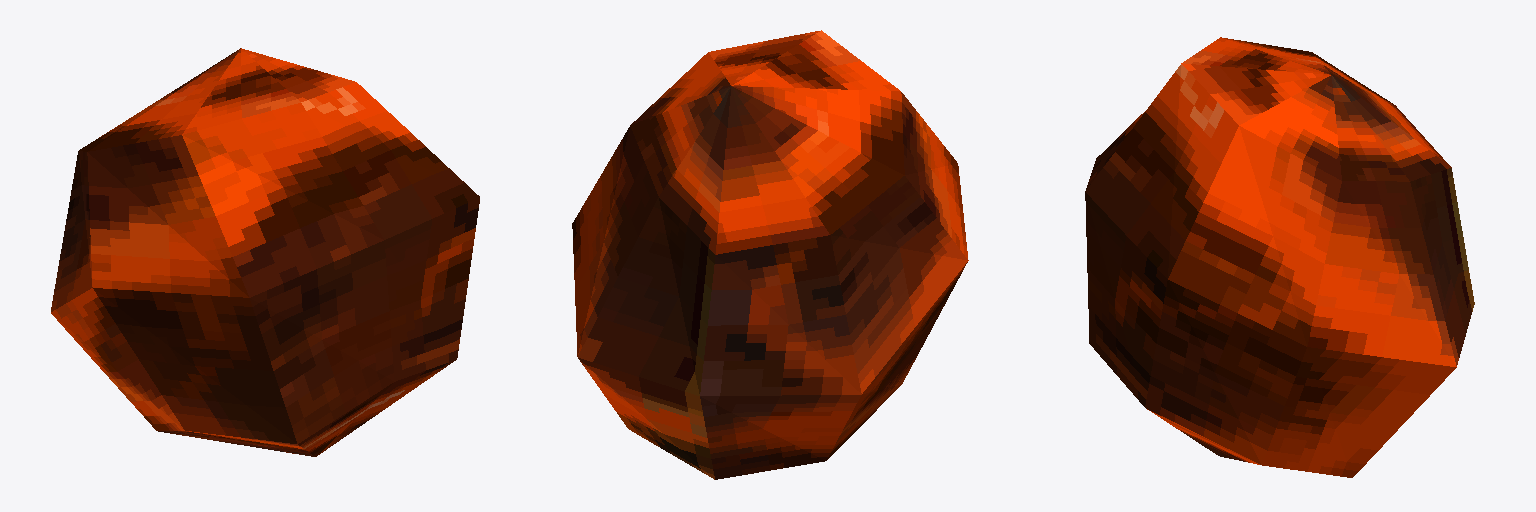
3 views of the same model, side by side, from view 1: azimuth 30°, elevation 25°; view 2: azimuth 150°, elevation 25°; view 3: azimuth 270°, elevation 25° (orthographic).
Parts seen in each view (by area): view 1: spells/fireball_missile_high.m2_Geoset_000; view 2: spells/fireball_missile_high.m2_Geoset_000; view 3: spells/fireball_missile_high.m2_Geoset_000.
Part boxes in pixels (bbox=[...]): spells/fireball_missile_high.m2_Geoset_000: bbox=[51, 48, 479, 456]; spells/fireball_missile_high.m2_Geoset_000: bbox=[572, 30, 968, 479]; spells/fireball_missile_high.m2_Geoset_000: bbox=[1085, 37, 1474, 477].
Bounding box in the file's own units: 0.4675 × 0.4678 × 0.4333.
1 materials, 1 textured.